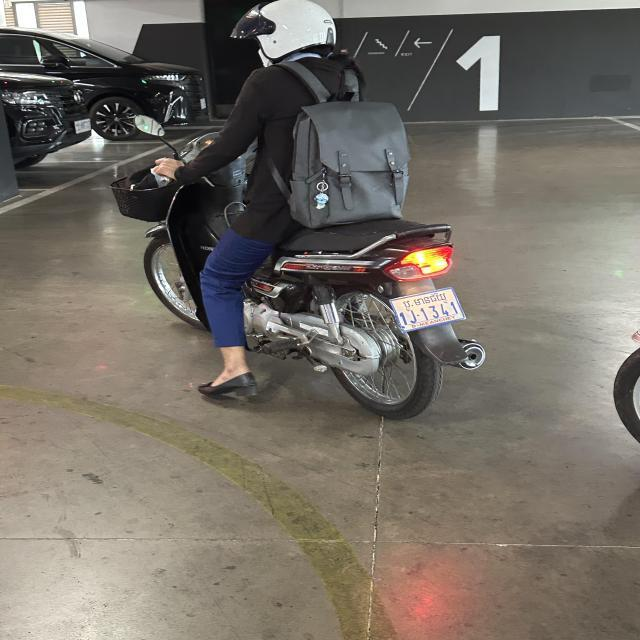Banteay_Meanchey: (403, 291, 448, 308)
